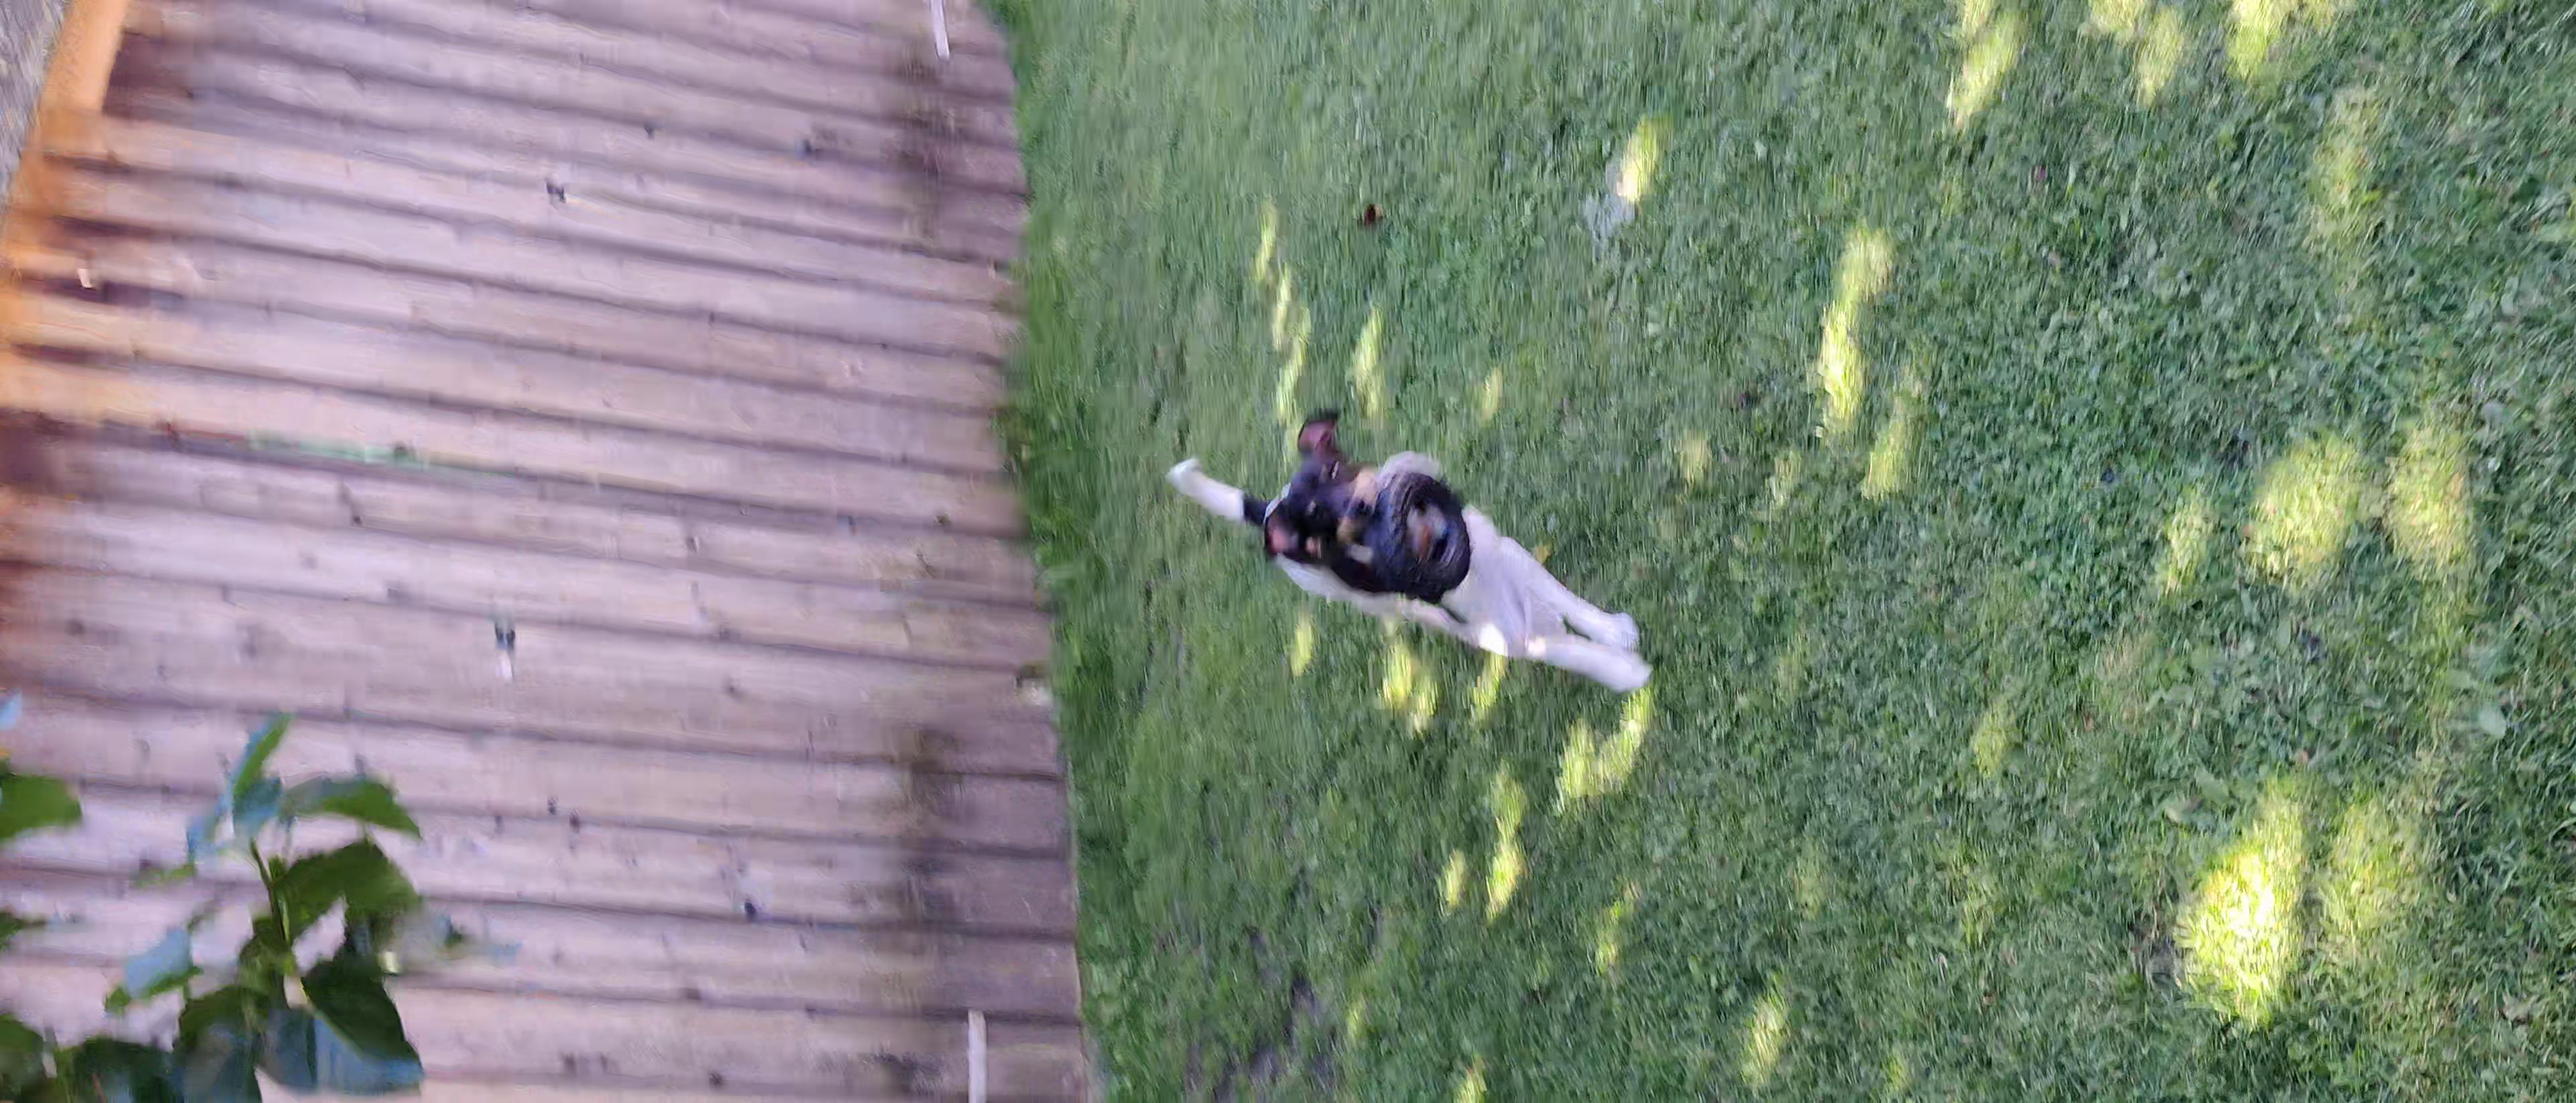Dog: (1155, 401, 1656, 695)
